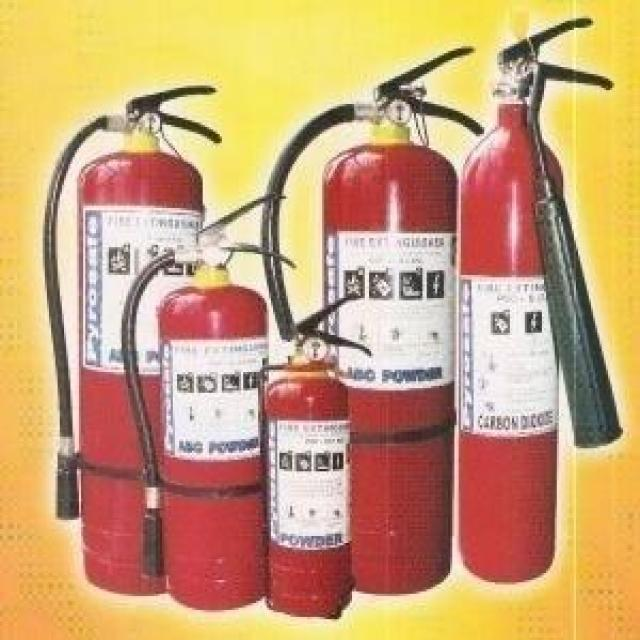fire_extinguisher: (252, 40, 488, 595), (444, 12, 629, 586), (34, 81, 224, 598), (114, 188, 302, 614), (250, 288, 376, 625)
